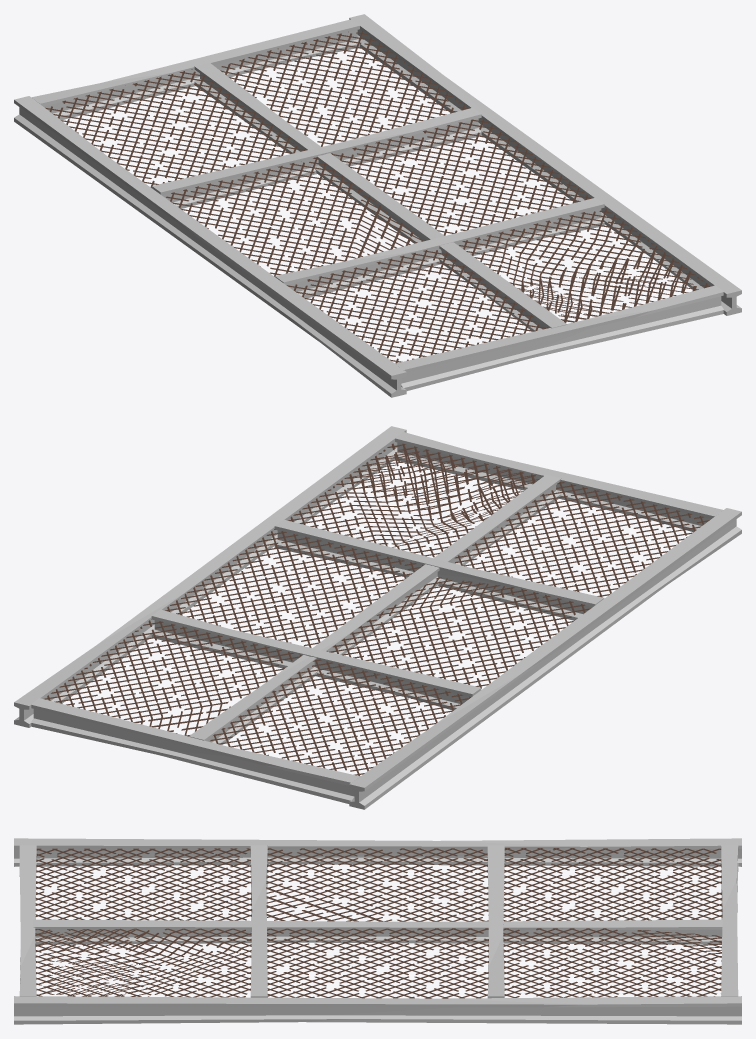
File: SM_Bld_IndustrialWalkway_Large_01.fbx
The picture shows the model from 3 angles, top to bottom: view 1: azimuth 30°, elevation 25°; view 2: azimuth 150°, elevation 25°; view 3: azimuth 270°, elevation 25°; orthographic projection. The views are drawn at different scales.
Visible parts, largest first — view 1: SM_Bld_IndustrialWalkway_Large_01; view 2: SM_Bld_IndustrialWalkway_Large_01; view 3: SM_Bld_IndustrialWalkway_Large_01.
Part boxes in pixels (<box>): SM_Bld_IndustrialWalkway_Large_01: <box>14,14,741,397</box>; SM_Bld_IndustrialWalkway_Large_01: <box>14,426,741,809</box>; SM_Bld_IndustrialWalkway_Large_01: <box>14,838,741,1024</box>.
Size of what is drawn, in the model's own units: 476 by 28.52 by 888.
